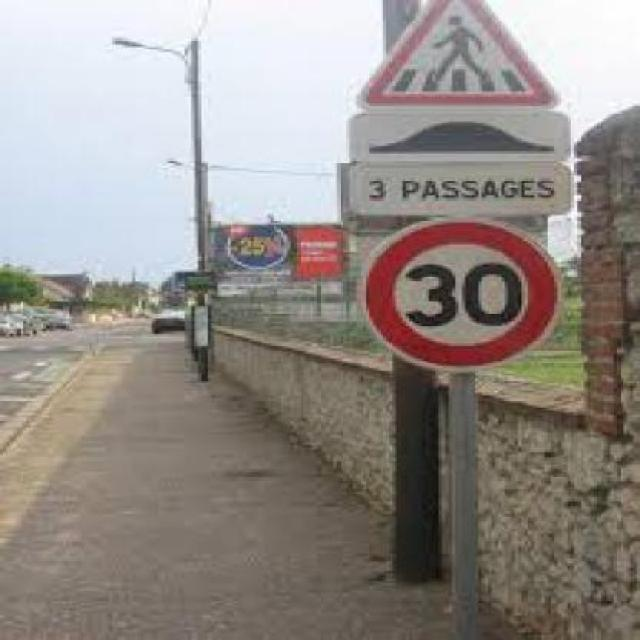forb_speed_over_30: (360, 215, 568, 371)
